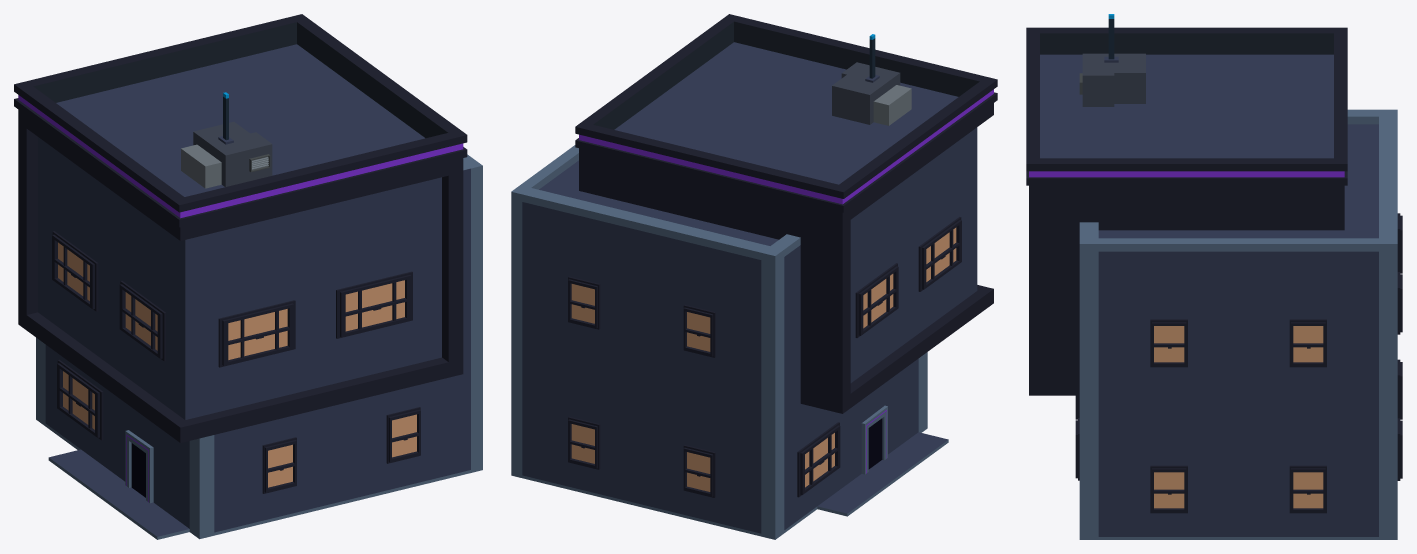
Rendered from Building_Small08.fbx.
3 renders of one model, left to right at view 1: azimuth 30°, elevation 25°; view 2: azimuth 150°, elevation 25°; view 3: azimuth 270°, elevation 25°, orthographic. The views are drawn at different scales.
Visible parts, largest first — view 1: Cube.455; view 2: Cube.455; view 3: Cube.455.
Boxes of the visible parts, <box> form: Cube.455: <box>14,14,482,539</box>; Cube.455: <box>511,14,997,539</box>; Cube.455: <box>1026,14,1402,539</box>.
Size of the model in its own units: 1005 by 1197 by 993.
